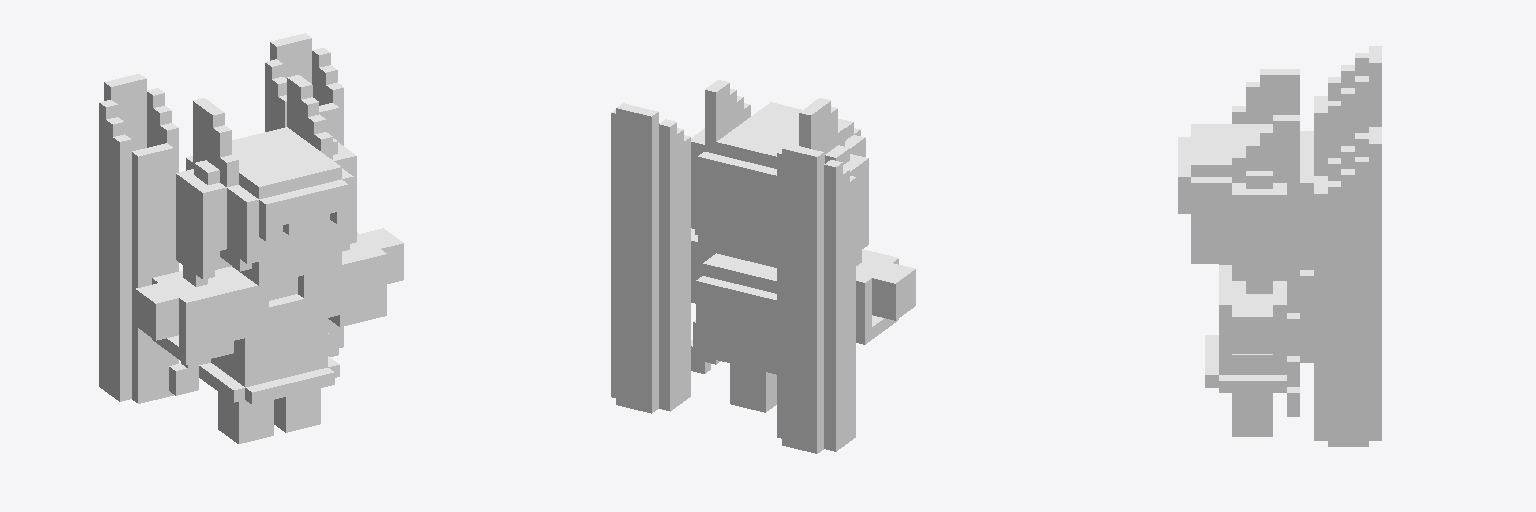
Rendered from kiritan.obj.
3 views of the same model, side by side, from view 1: azimuth 30°, elevation 25°; view 2: azimuth 150°, elevation 25°; view 3: azimuth 270°, elevation 25° (orthographic).
Parts seen in each view (by area): view 1: kiritan; view 2: kiritan; view 3: kiritan.
Part boxes in pixels (bbox=[...]): kiritan: bbox=[99, 33, 403, 443]; kiritan: bbox=[611, 80, 915, 453]; kiritan: bbox=[1178, 46, 1381, 446].
Bounding box in the file's own units: 21 × 26 × 15.